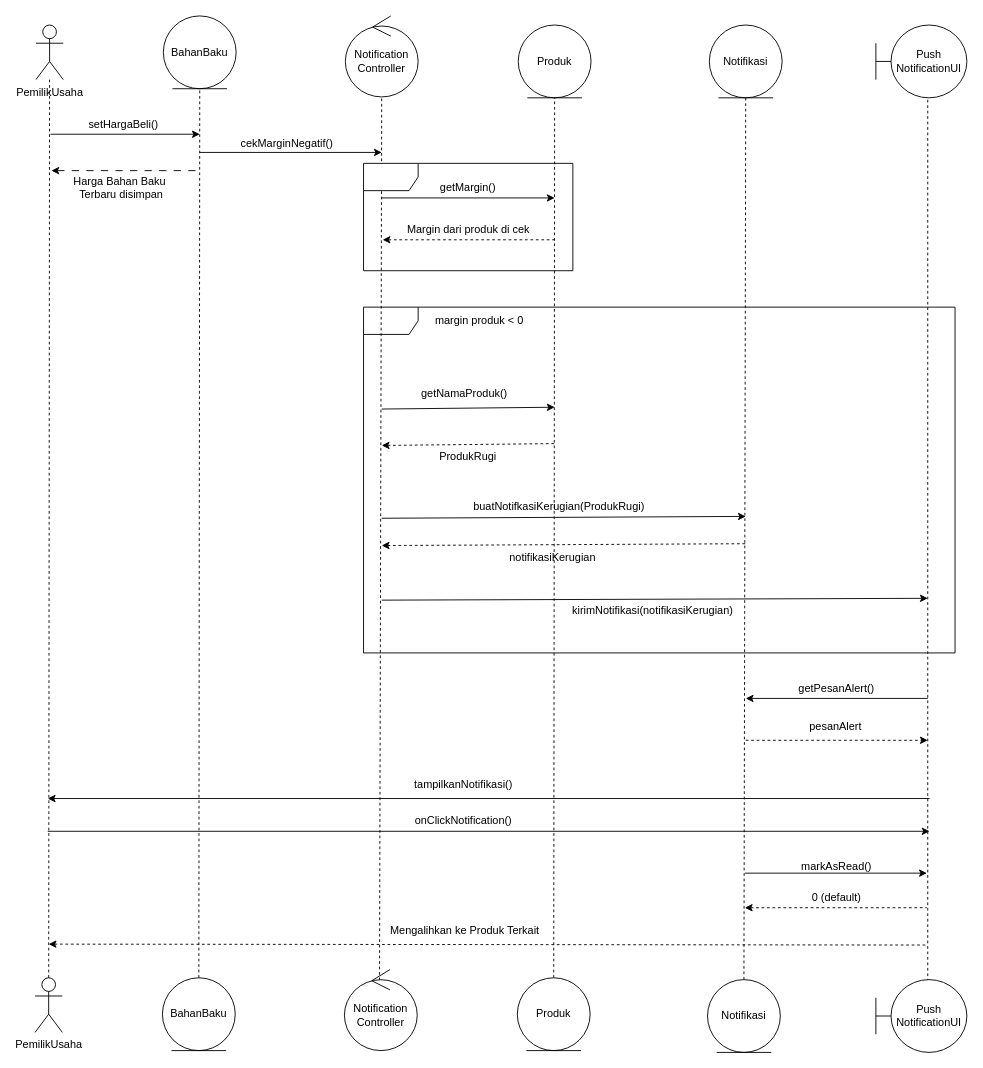
Some shapes in this 983 by 1068 pixel diagram are drawn without their labels. Each missing label, with the box of its shape:
alt: (363, 306, 955, 653)
loop: (363, 162, 573, 271)
